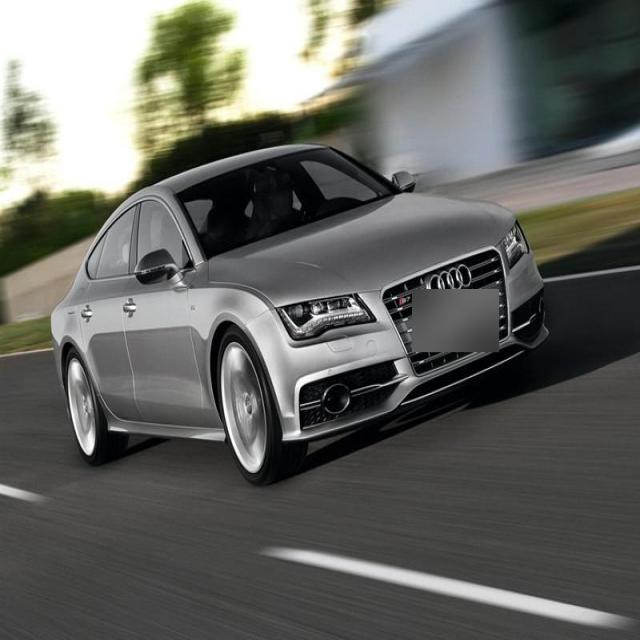door: (81, 200, 139, 445)
front_bumper: (242, 246, 554, 444)
front_glass: (173, 143, 396, 264)
front_left_side_light: (496, 217, 530, 271)
front_left_side_mirror: (391, 169, 418, 193)
front_right_side_door: (119, 193, 208, 441)
front_right_side_light: (273, 289, 378, 348)
front_right_side_mirror: (134, 247, 182, 288)
wheel: (215, 327, 303, 483), (65, 350, 128, 466)
